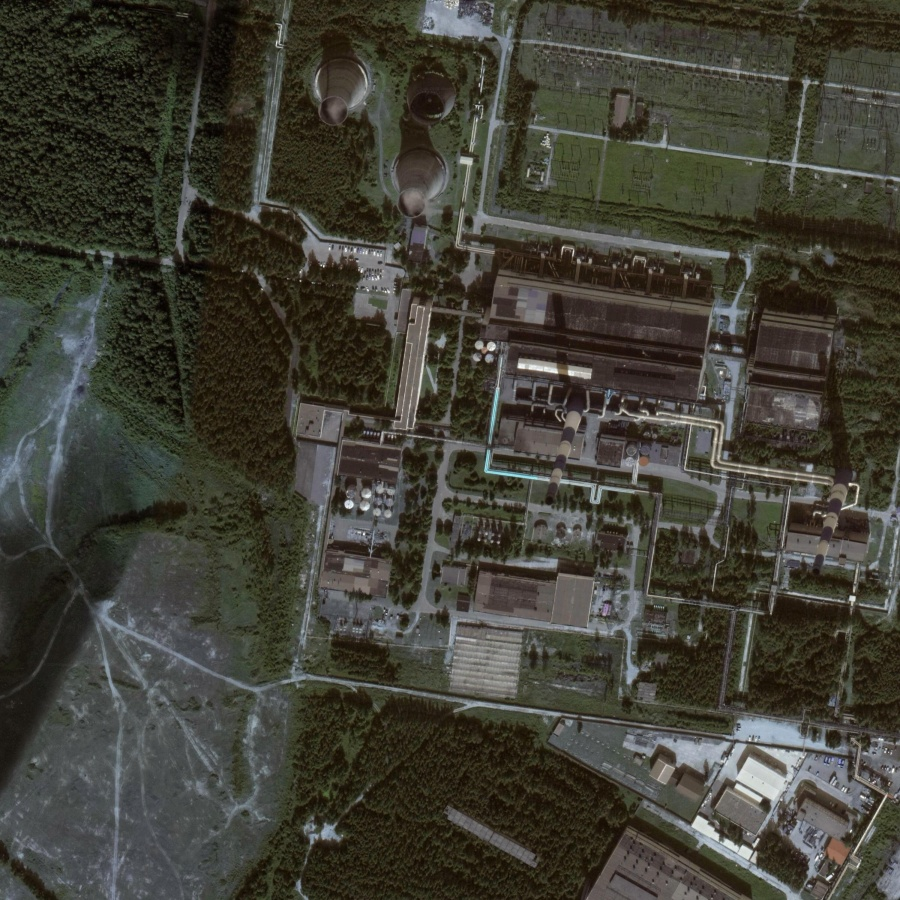PowerPlant: (498, 272, 856, 592)
